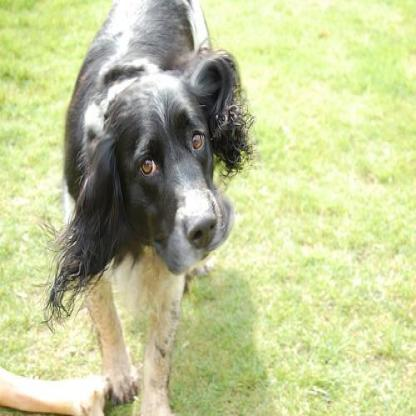English_springer: (36, 0, 254, 414)
